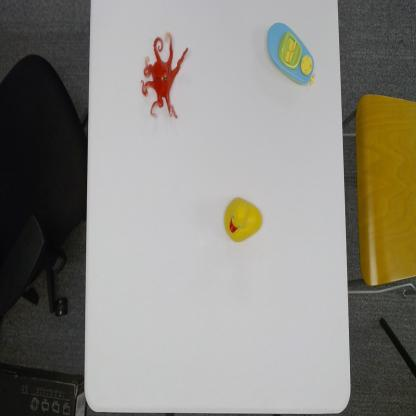Boat: (266, 21, 316, 86)
Duck: (223, 195, 264, 244)
Octopus: (140, 30, 189, 121)
